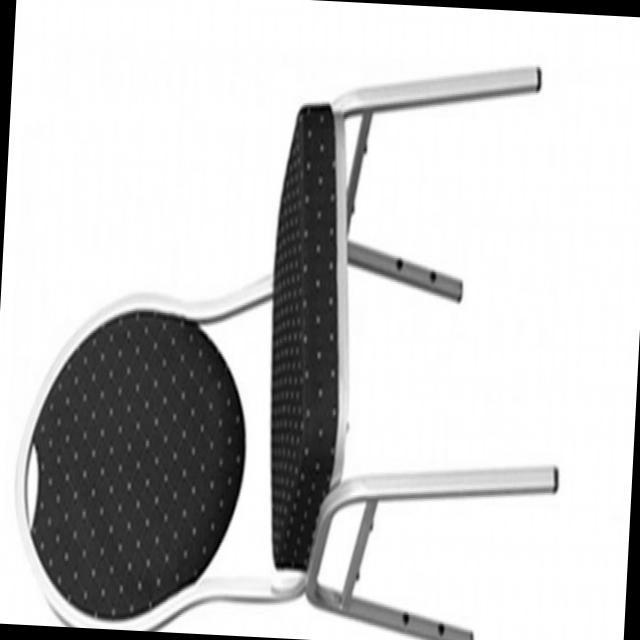chair: (0, 27, 582, 640)
